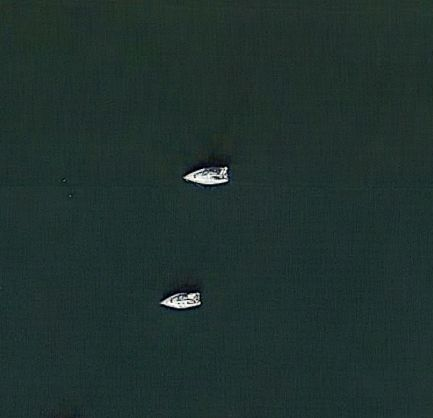boat: (181, 164, 232, 189), (158, 290, 204, 312)
